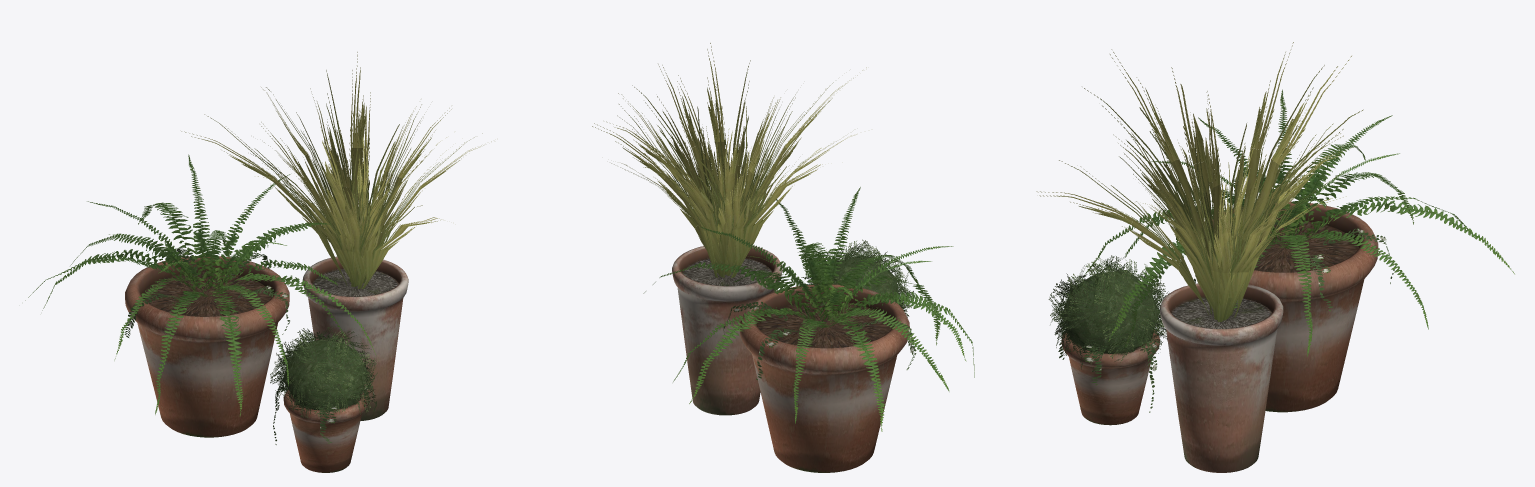
File: courtyard_pots_corner.gltf
3 renders of one model, left to right at view 1: azimuth 30°, elevation 25°; view 2: azimuth 150°, elevation 25°; view 3: azimuth 270°, elevation 25°, orthographic. The views are drawn at different scales.
Parts seen in each view (by area): view 1: CourtyardPotsCorner_PlantsNoCollide, CourtyardPotsCorner_Pot0, CourtyardPotsCorner_Pot1, CourtyardPotsCorner_Pot2; view 2: CourtyardPotsCorner_PlantsNoCollide, CourtyardPotsCorner_Pot0, CourtyardPotsCorner_Pot1; view 3: CourtyardPotsCorner_PlantsNoCollide, CourtyardPotsCorner_Pot1, CourtyardPotsCorner_Pot0, CourtyardPotsCorner_Pot2.
Boxes of the visible parts, <box> form: CourtyardPotsCorner_PlantsNoCollide: <box>25,52,491,444</box>; CourtyardPotsCorner_Pot0: <box>125,256,289,437</box>; CourtyardPotsCorner_Pot1: <box>303,256,408,420</box>; CourtyardPotsCorner_Pot2: <box>283,389,368,472</box>; CourtyardPotsCorner_PlantsNoCollide: <box>592,43,974,431</box>; CourtyardPotsCorner_Pot0: <box>740,284,909,472</box>; CourtyardPotsCorner_Pot1: <box>672,246,782,415</box>; CourtyardPotsCorner_PlantsNoCollide: <box>1036,42,1514,412</box>; CourtyardPotsCorner_Pot1: <box>1160,283,1283,472</box>; CourtyardPotsCorner_Pot0: <box>1212,201,1378,412</box>; CourtyardPotsCorner_Pot2: <box>1061,330,1159,425</box>.
Bounding box in the file's own units: 2.03 × 1.56 × 1.85.
2 materials, 2 textured.
